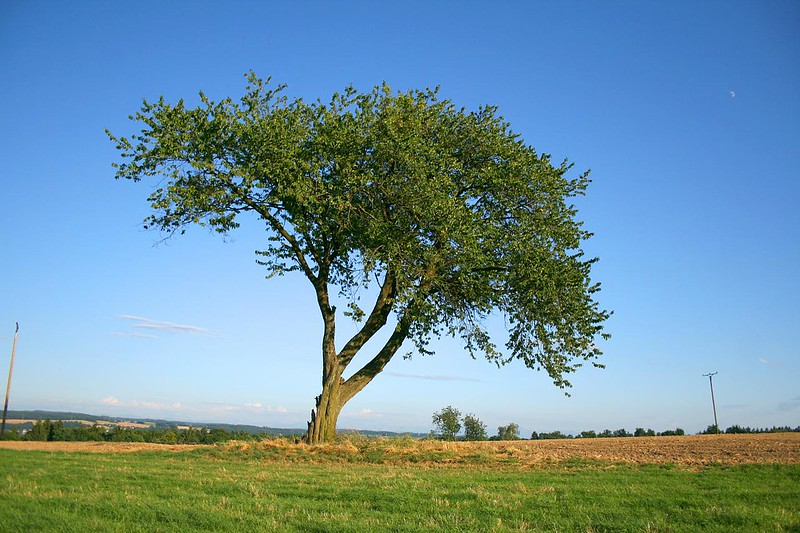grass: (0, 449, 798, 528)
tree: (304, 312, 410, 441)
